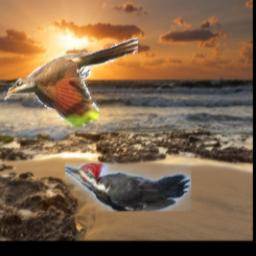Cuckoo: (4, 38, 139, 129)
Woodpecker: (66, 163, 192, 212)
